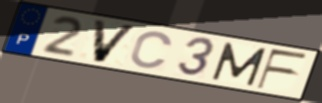2: (40, 16, 86, 59)
3: (174, 36, 217, 79)
C: (128, 30, 175, 70)
F: (255, 48, 311, 91)
M: (210, 41, 270, 88)
V: (91, 17, 140, 64)
